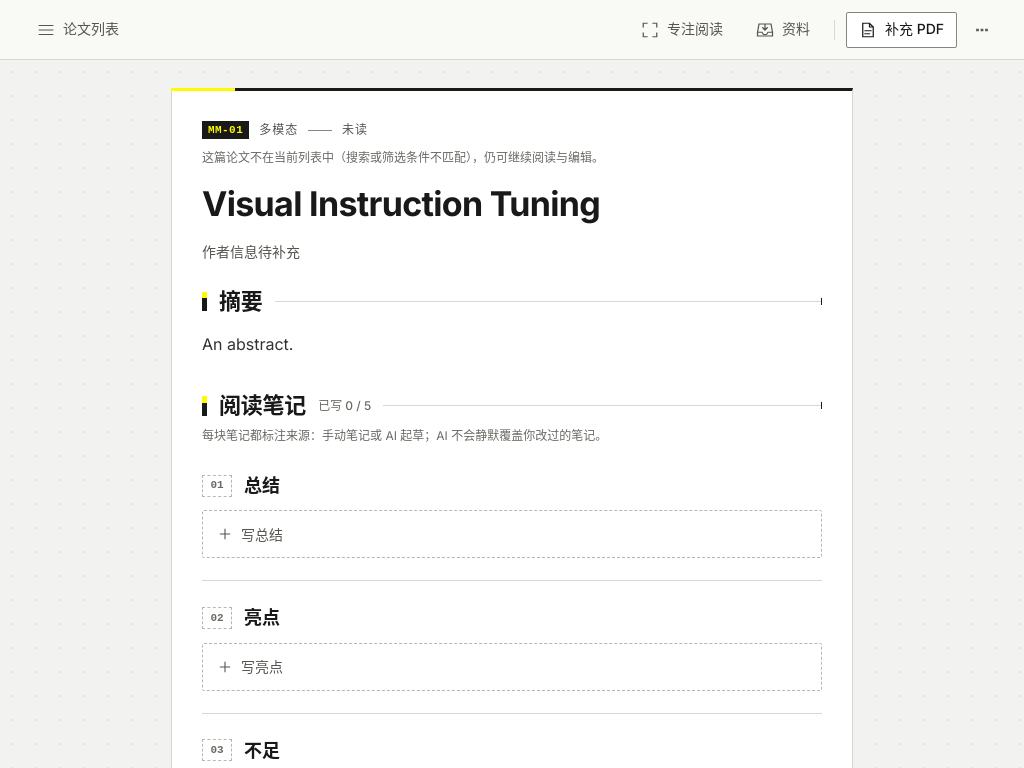
Test: ReadingStage · 笔记与论文信息的入口不重复 › 「更多操作」里的编辑论文信息写明改的是题录，不是笔记
The image size is (1024, 768).
Click the button named "更多操作".
click(982, 30)  # box [964,12,1000,48]
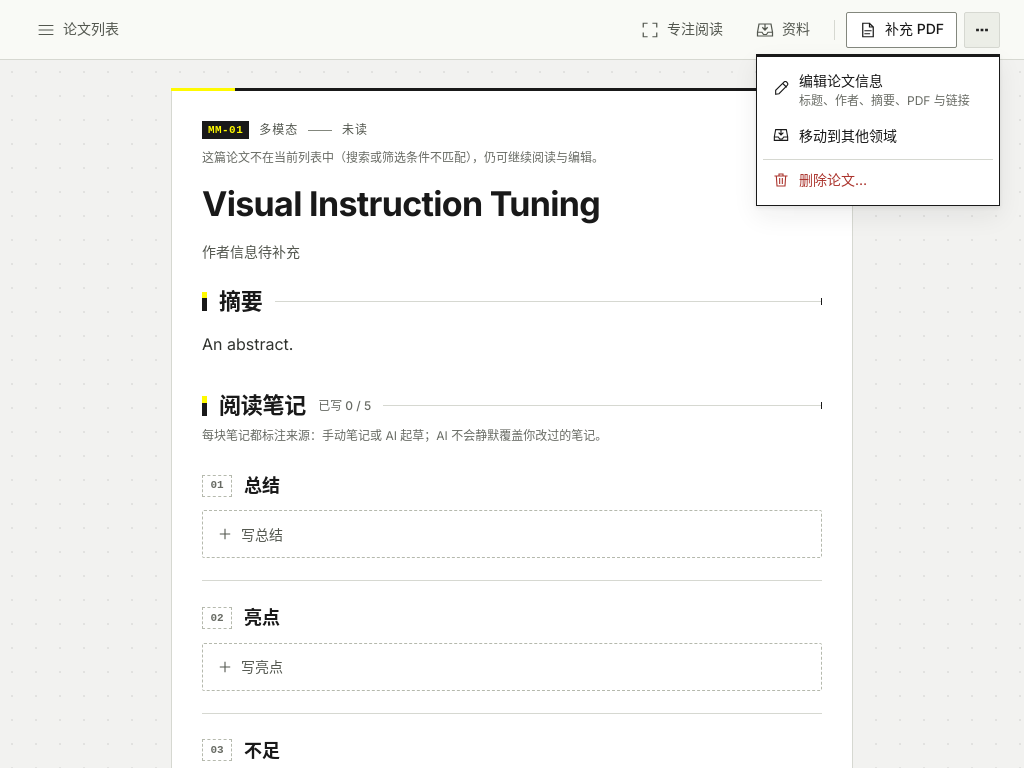
Now the button "编辑论文信息 标题、作者、摘要、PDF 与链接" is shown, box [763,62,993,115]
